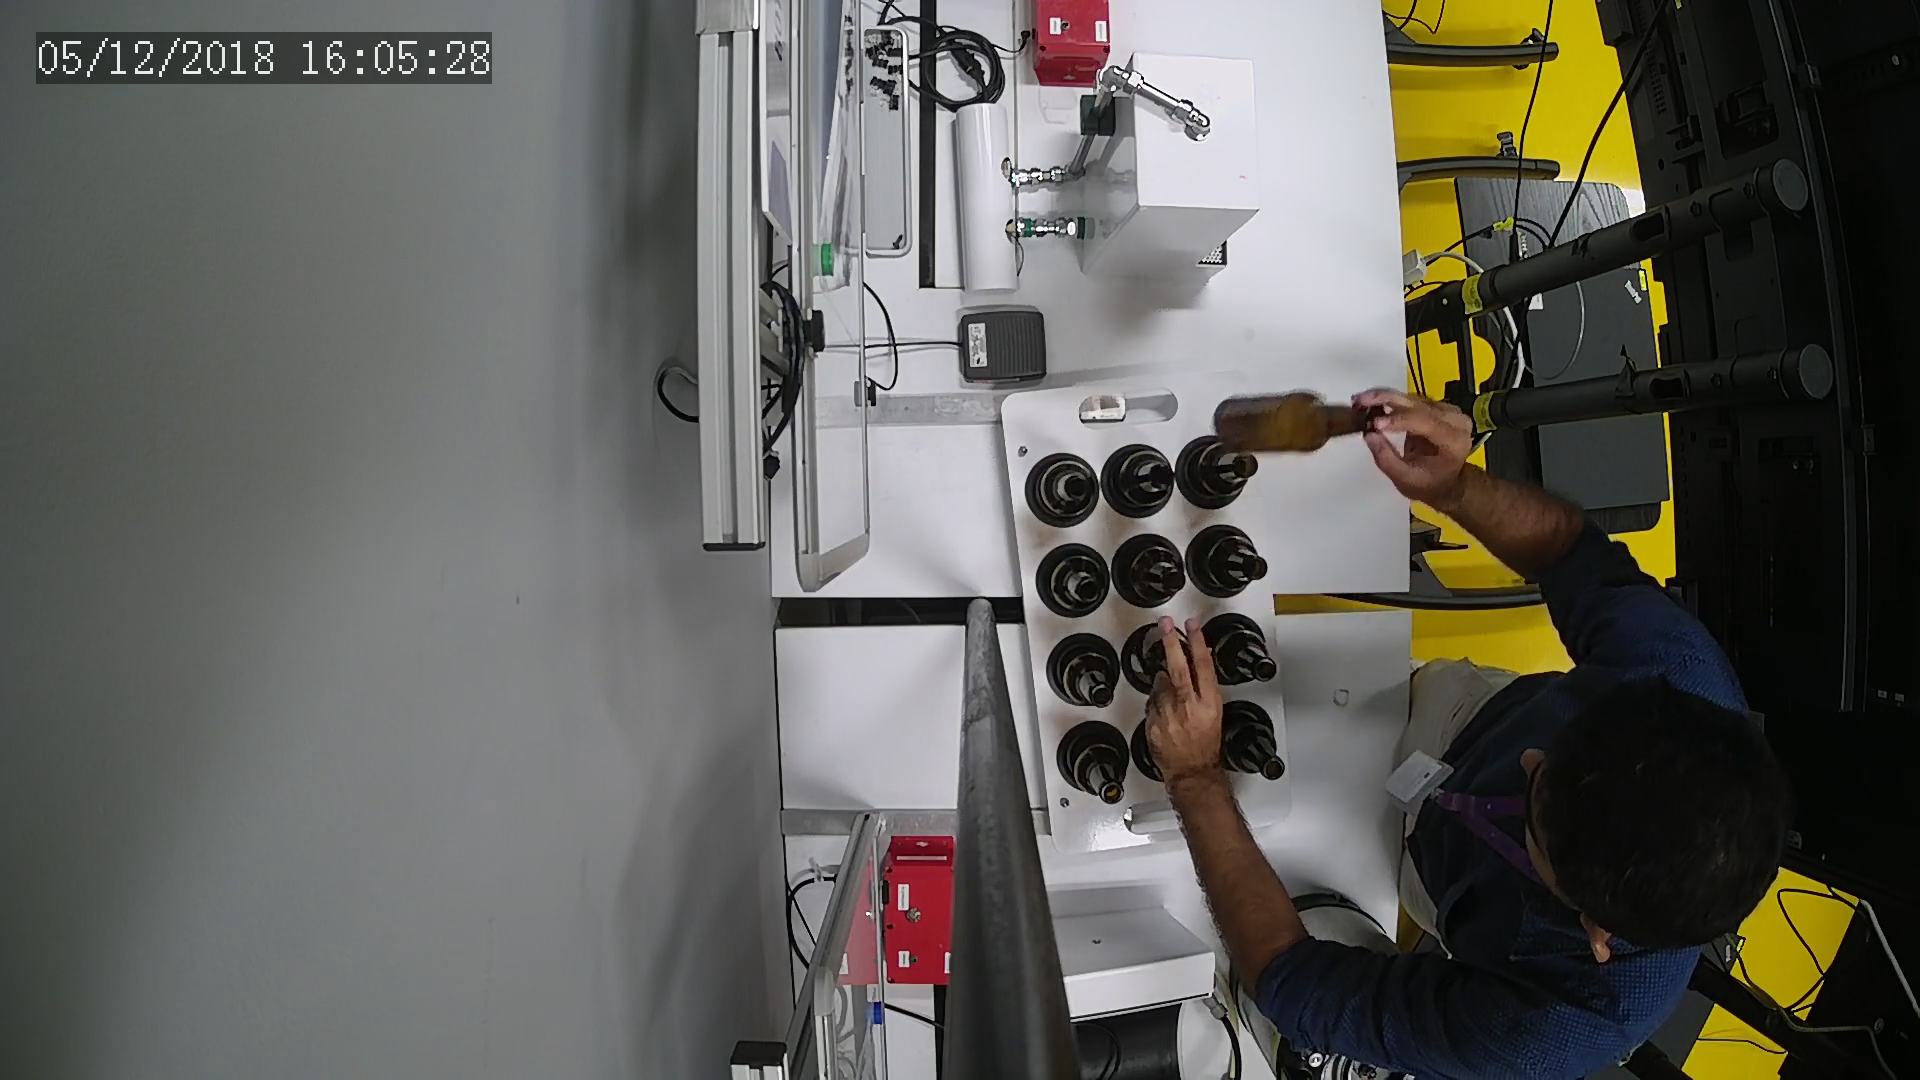filled_bottle: (1104, 527, 1193, 611), (1029, 541, 1116, 624), (1058, 717, 1131, 811), (1199, 611, 1280, 695), (1176, 436, 1261, 516), (1185, 524, 1270, 603), (1047, 632, 1126, 716), (1101, 440, 1178, 524), (1022, 448, 1098, 527), (1222, 702, 1288, 786)
trolley: (996, 372, 1304, 862)
